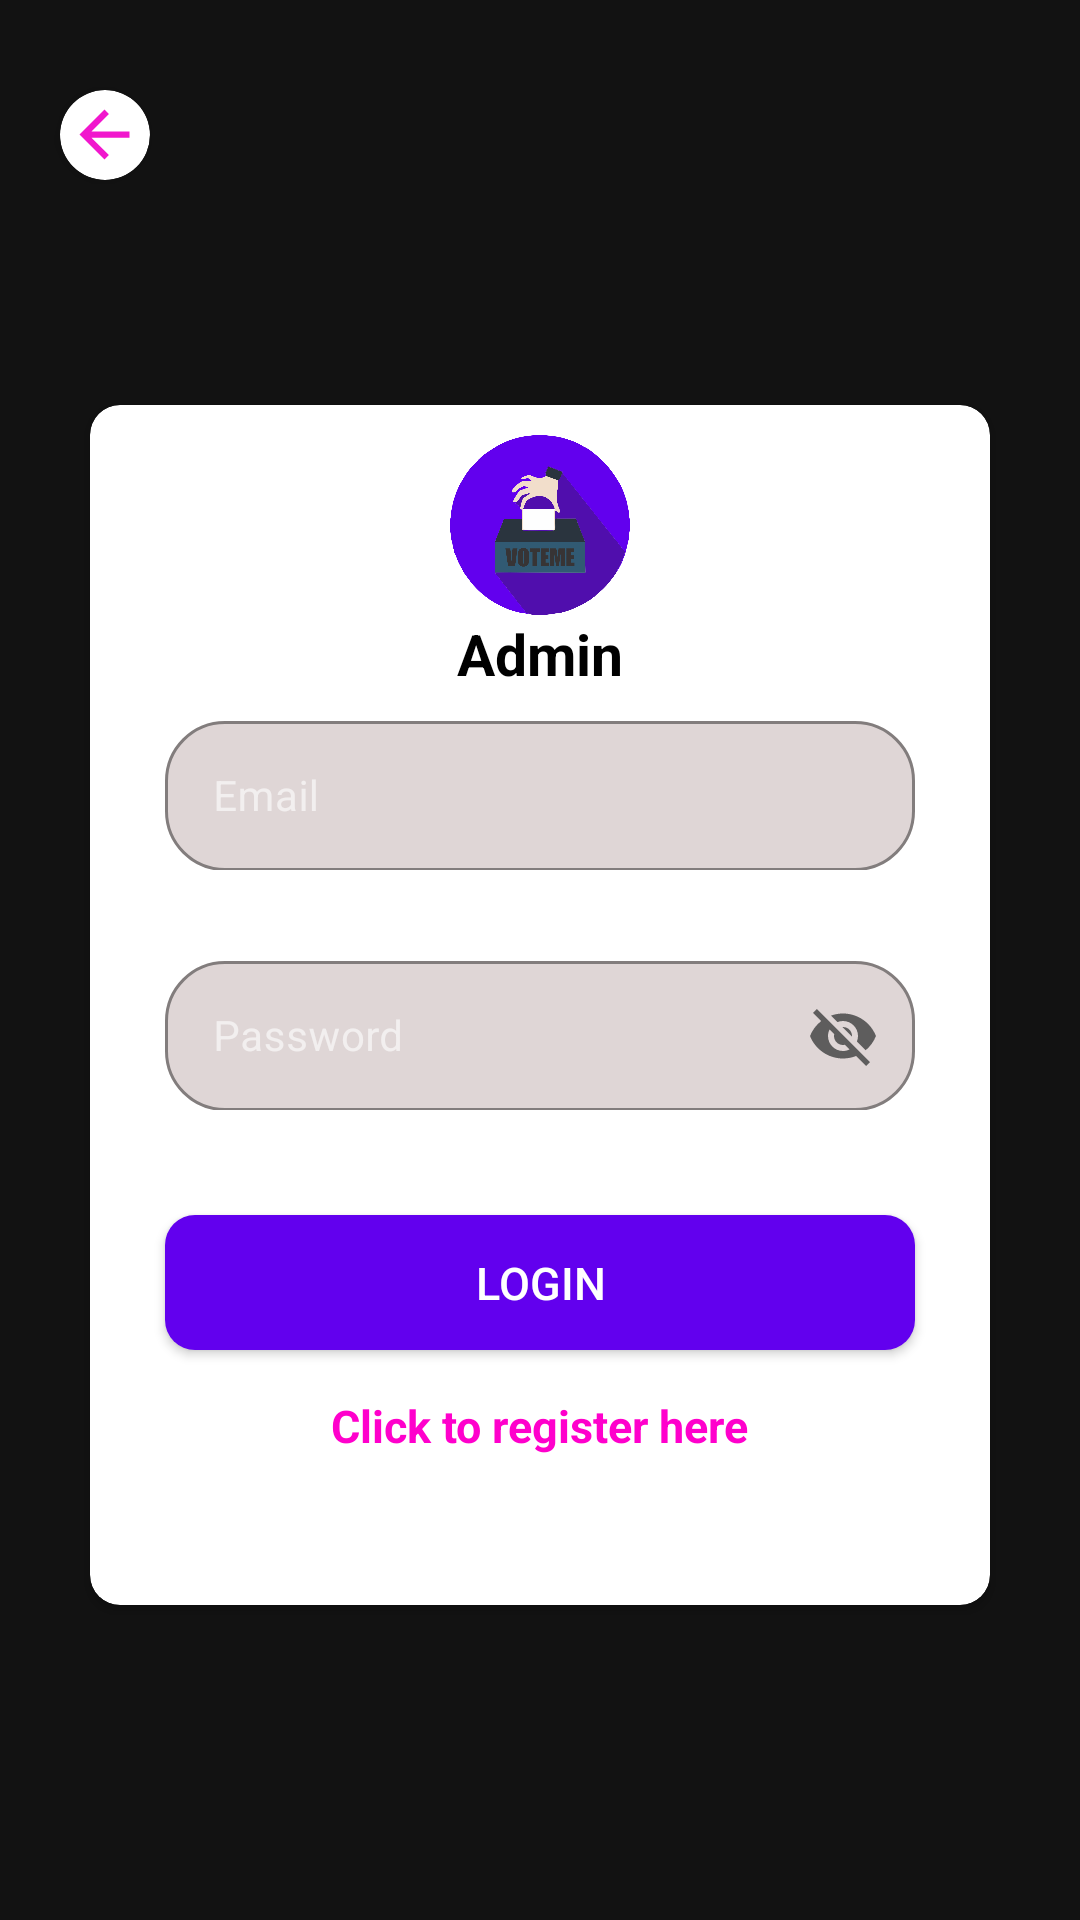

Named icons in this screenshot (1080w x 1920h) and their centers, [x,y]:
back arrow: [104,134]
